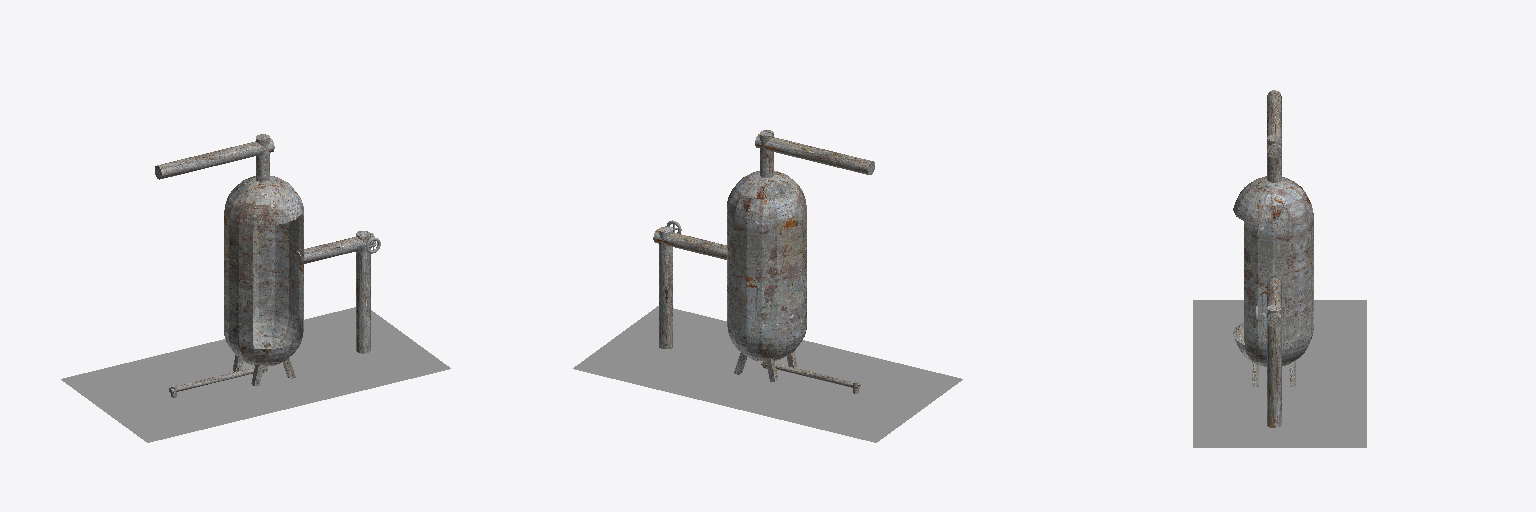
3 renders of one model, left to right at view 1: azimuth 30°, elevation 25°; view 2: azimuth 150°, elevation 25°; view 3: azimuth 270°, elevation 25°, orthographic.
Parts seen in each view (by area): view 1: Plane, Capsule, Cylinder.001, Cylinder.003, Cylinder, Cylinder.002; view 2: Plane, Capsule, Cylinder.003, Cylinder.001, Cylinder, Cylinder.002; view 3: Plane, Capsule, Cylinder.001, Cylinder.003, Cylinder.
Part boxes in pixels (left/top/right/bottom): Plane: left=61, top=307, right=450, bottom=442; Capsule: left=224, top=176, right=303, bottom=366; Cylinder.001: left=356, top=231, right=370, bottom=353; Cylinder.003: left=155, top=138, right=274, bottom=179; Cylinder: left=295, top=233, right=375, bottom=264; Cylinder.002: left=256, top=134, right=269, bottom=181; Plane: left=573, top=306, right=962, bottom=442; Capsule: left=727, top=171, right=806, bottom=361; Cylinder.003: left=755, top=134, right=874, bottom=174; Cylinder.001: left=659, top=226, right=672, bottom=348; Cylinder: left=653, top=229, right=726, bottom=259; Cylinder.002: left=760, top=130, right=773, bottom=177; Plane: left=1193, top=300, right=1366, bottom=447; Capsule: left=1233, top=176, right=1313, bottom=366; Cylinder.001: left=1267, top=305, right=1281, bottom=427; Cylinder.003: left=1267, top=90, right=1281, bottom=157; Cylinder: left=1267, top=278, right=1281, bottom=327.
Bounding box in the file's own units: 8.63 × 6.5 × 4.29.
17 materials, 1 textured.